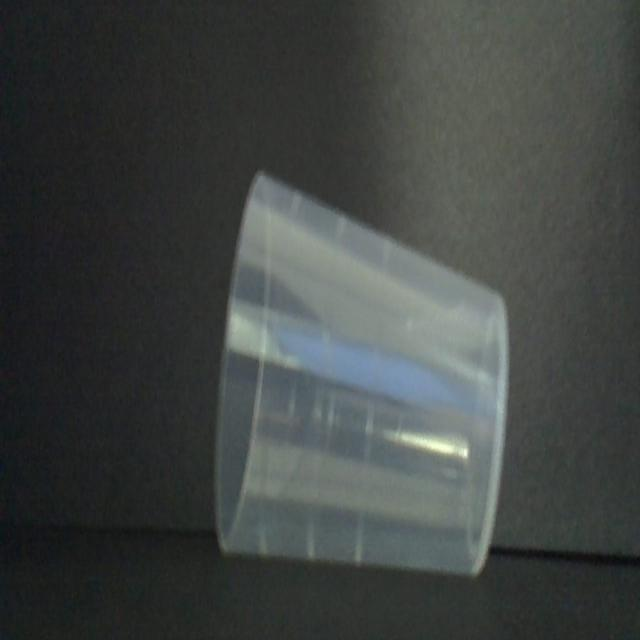cup: (209, 168, 515, 581)
